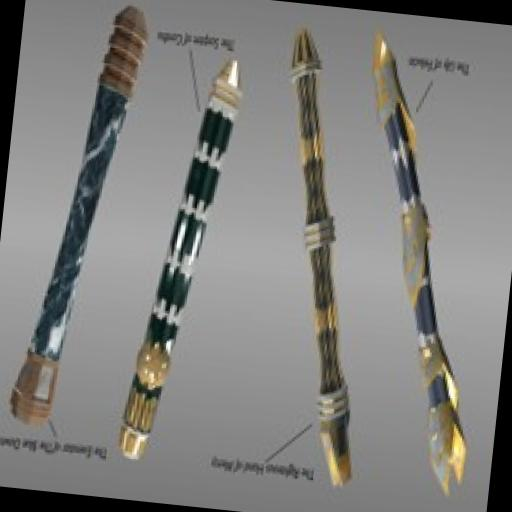lightsaber: (326, 29, 512, 502), (248, 27, 402, 491), (4, 0, 146, 433), (114, 50, 244, 470)
